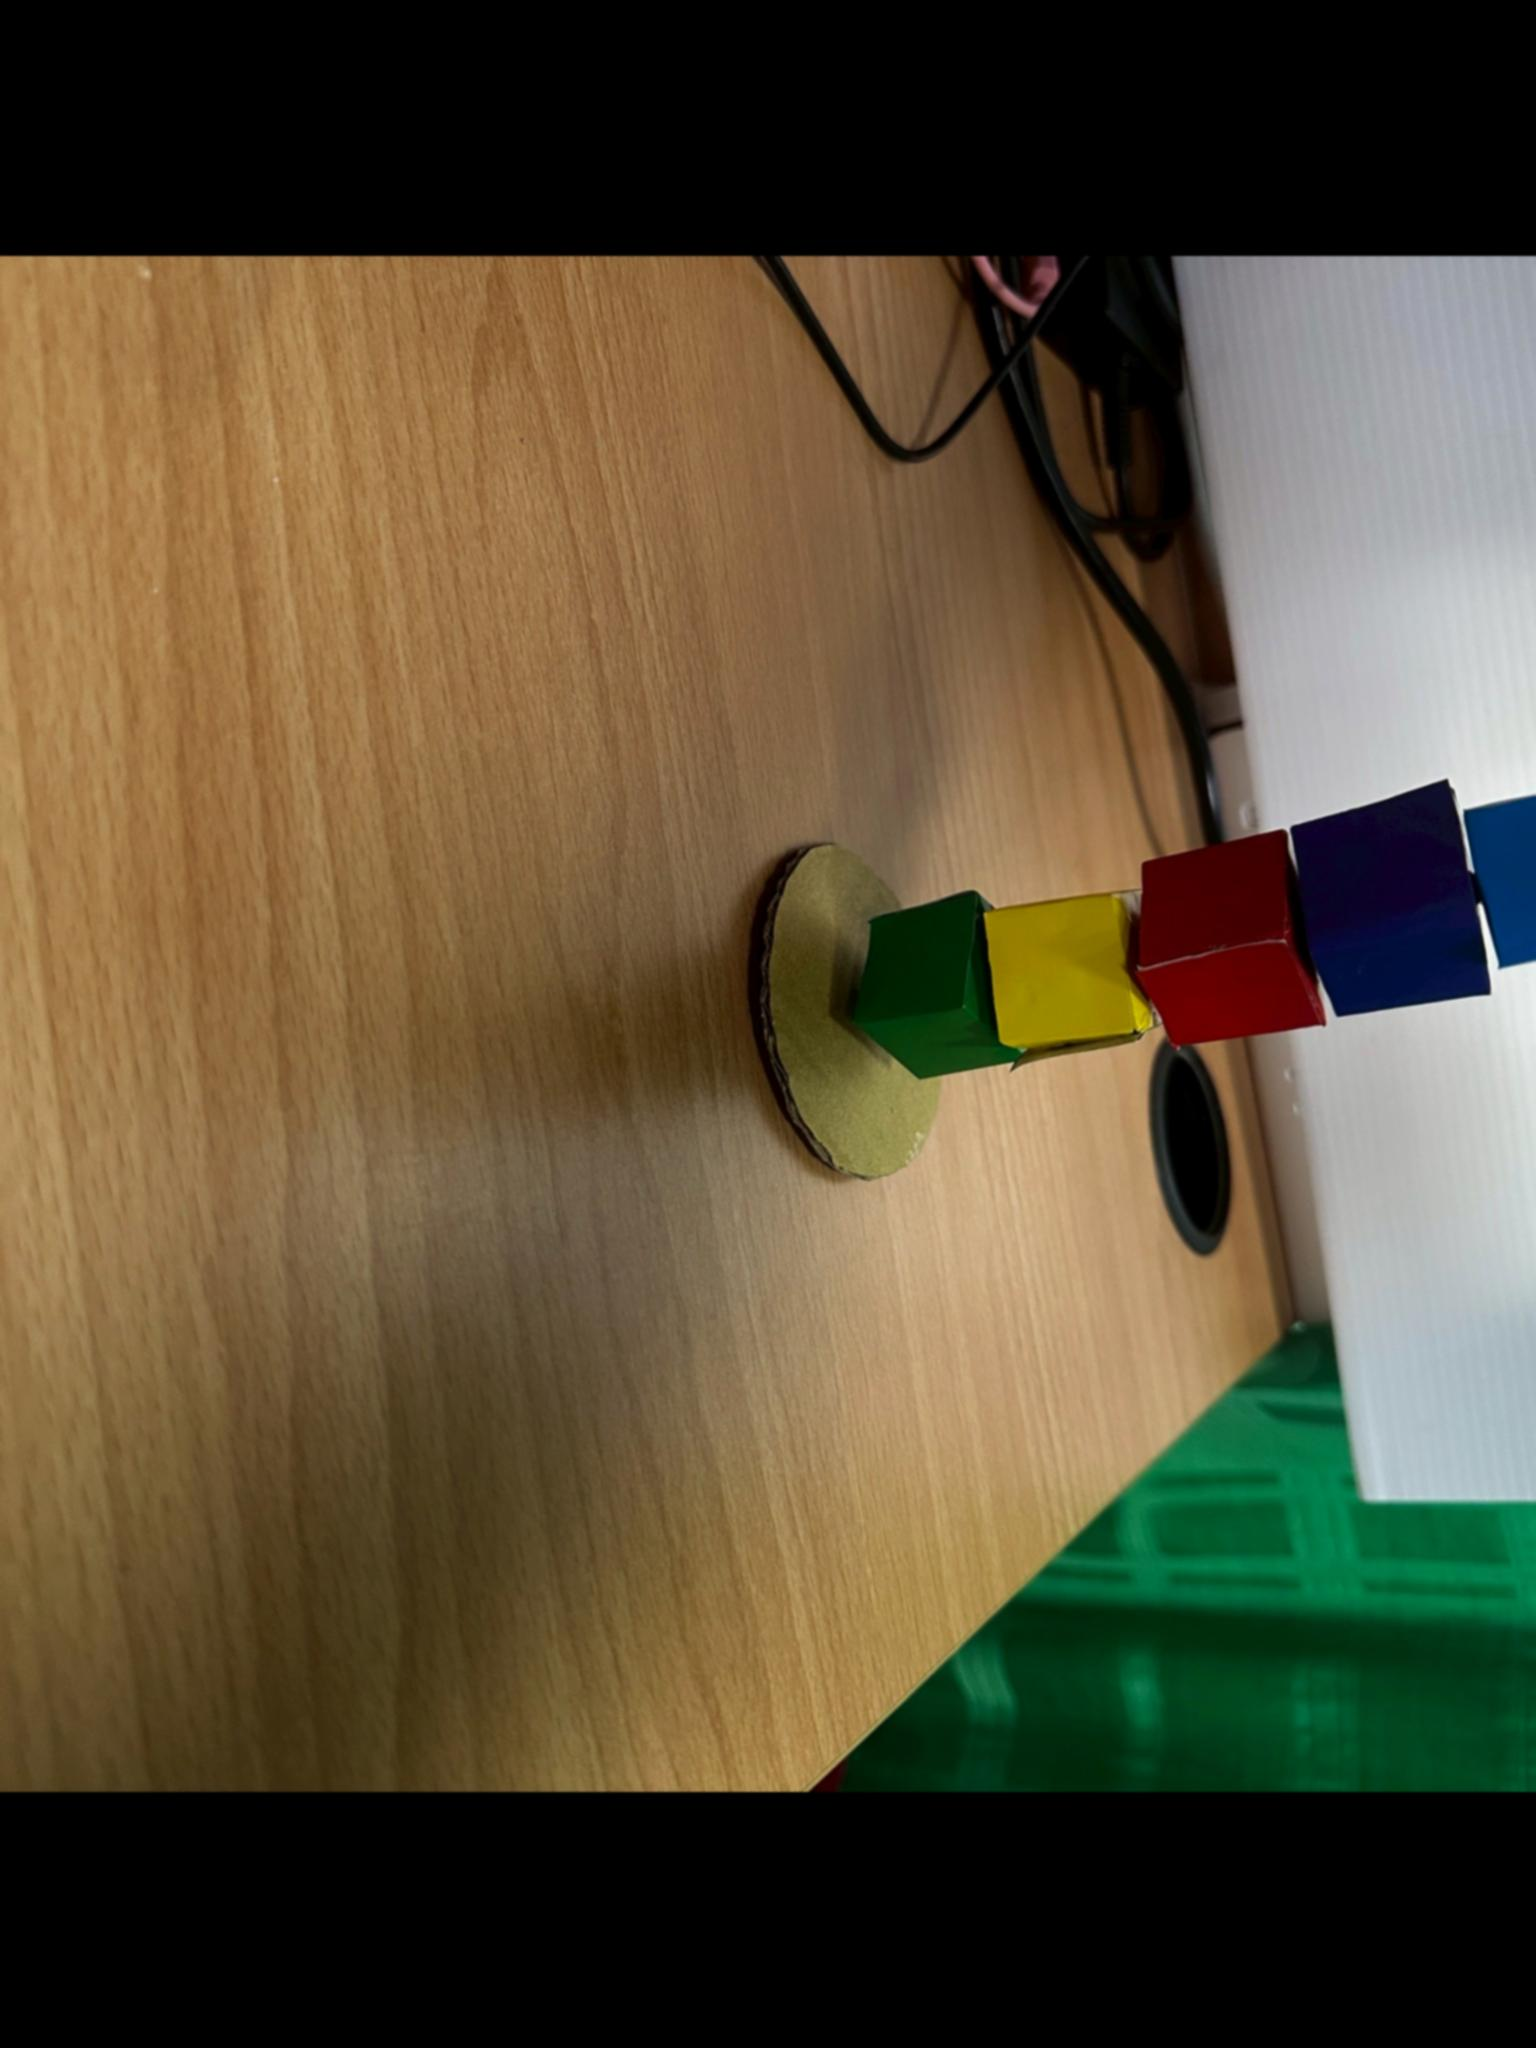base: (755, 845, 941, 1179)
